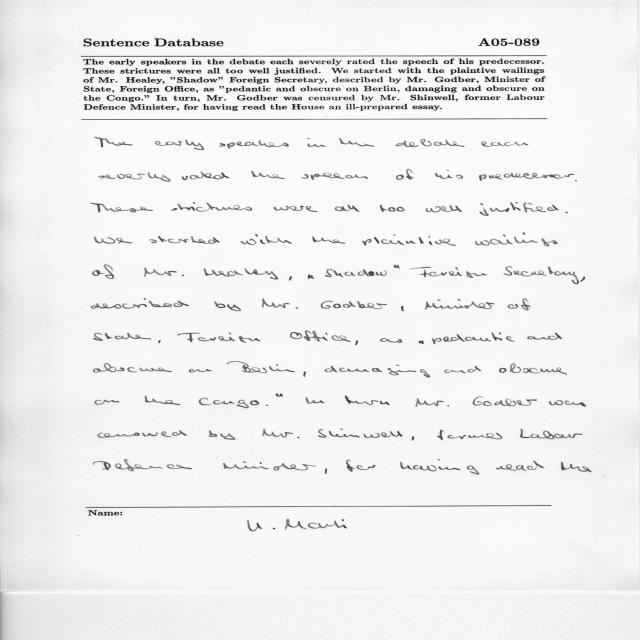word: (325, 365, 430, 378), (504, 267, 579, 285), (400, 459, 479, 475), (93, 460, 192, 472), (475, 233, 558, 247), (362, 234, 456, 246), (479, 202, 559, 216), (91, 298, 189, 309), (432, 332, 515, 344), (178, 332, 261, 343), (410, 267, 487, 278), (223, 462, 316, 471), (203, 269, 278, 280), (171, 202, 252, 212), (94, 363, 172, 373), (318, 429, 403, 438), (479, 173, 574, 181), (425, 299, 494, 310), (227, 362, 295, 373), (499, 364, 567, 375), (99, 172, 171, 182), (98, 430, 187, 438), (290, 331, 351, 342), (437, 430, 502, 440), (473, 397, 537, 407), (219, 140, 289, 149), (91, 203, 153, 213), (521, 429, 583, 439), (199, 398, 259, 408), (240, 234, 292, 245), (149, 236, 220, 244), (396, 139, 465, 147), (321, 301, 387, 309), (325, 269, 387, 277), (155, 140, 204, 150), (496, 461, 544, 471), (302, 173, 369, 180), (94, 333, 152, 341), (182, 172, 229, 181), (144, 267, 184, 277), (262, 298, 298, 309), (346, 459, 376, 472), (95, 137, 133, 147), (144, 396, 180, 406), (345, 395, 379, 405), (263, 429, 300, 438), (339, 138, 374, 147), (93, 265, 115, 279), (416, 398, 450, 407), (561, 462, 591, 472), (482, 141, 529, 147), (508, 299, 531, 311), (251, 171, 285, 179), (214, 302, 241, 312), (209, 430, 236, 440), (95, 237, 133, 244), (312, 236, 345, 244), (445, 366, 482, 373), (274, 206, 317, 212), (435, 170, 463, 179), (426, 205, 462, 212), (527, 333, 562, 340), (549, 400, 586, 406), (396, 169, 414, 180), (334, 205, 360, 212), (380, 205, 405, 212), (307, 138, 326, 147), (306, 397, 325, 404), (95, 400, 120, 405), (380, 338, 402, 343), (189, 369, 212, 373), (380, 401, 390, 405), (308, 274, 314, 279), (581, 277, 586, 282), (394, 265, 400, 269), (276, 394, 283, 397), (419, 340, 424, 344), (303, 371, 306, 377), (289, 276, 292, 281), (355, 341, 358, 346), (401, 306, 403, 311), (325, 469, 327, 474), (158, 341, 161, 344), (412, 437, 414, 441), (575, 180, 577, 182), (266, 404, 268, 406), (566, 212, 568, 213)
